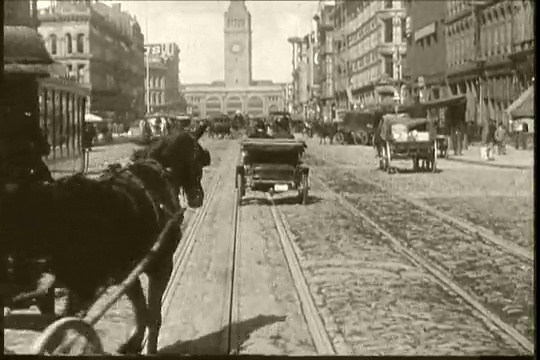car: (230, 111, 314, 219)
carriage: (367, 108, 443, 175), (304, 102, 381, 146)
horse: (40, 115, 223, 316)
trolley: (2, 59, 89, 192)
